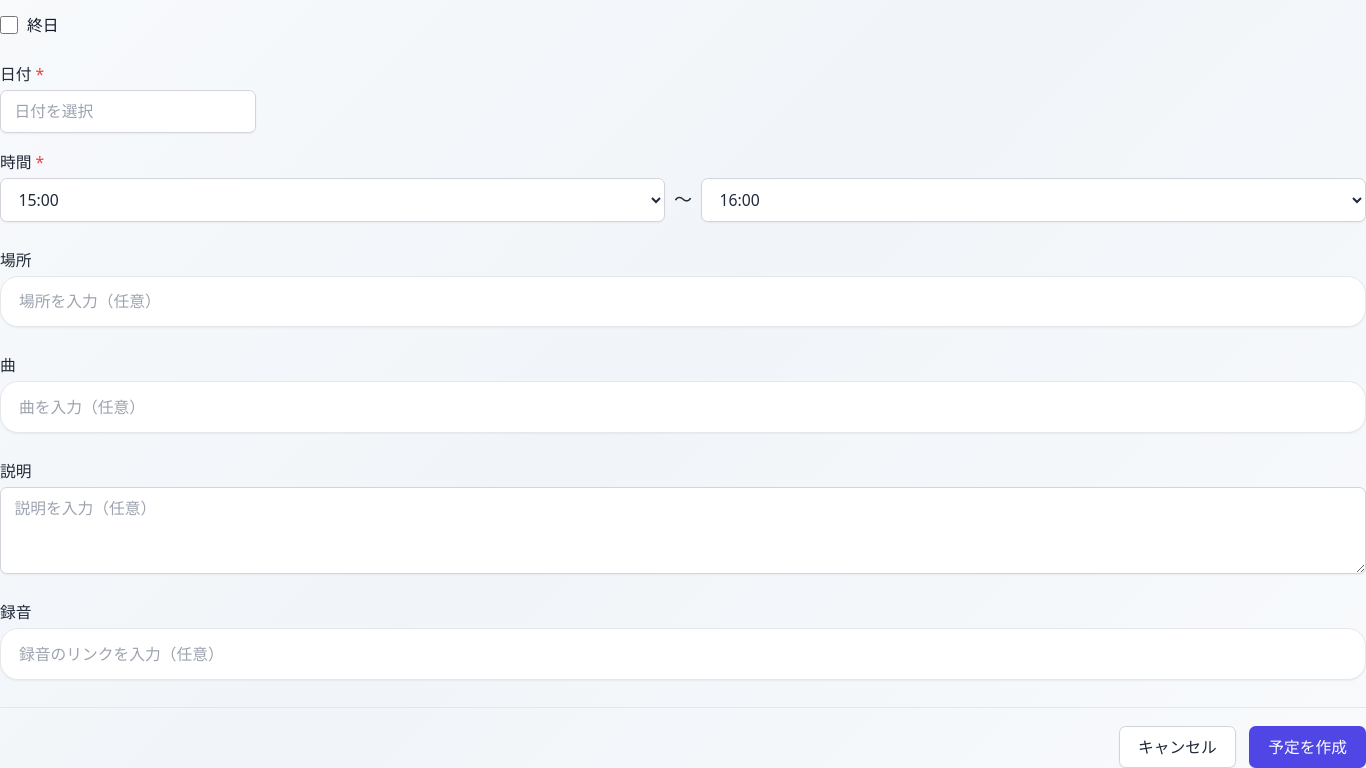
ScheduleForm › validation › should show error when summary is empty on submit
(page scrolled)
Click the button "予定を作成": (1308, 747) left=1249, top=726, right=1365, bottom=767
(page scrolled)
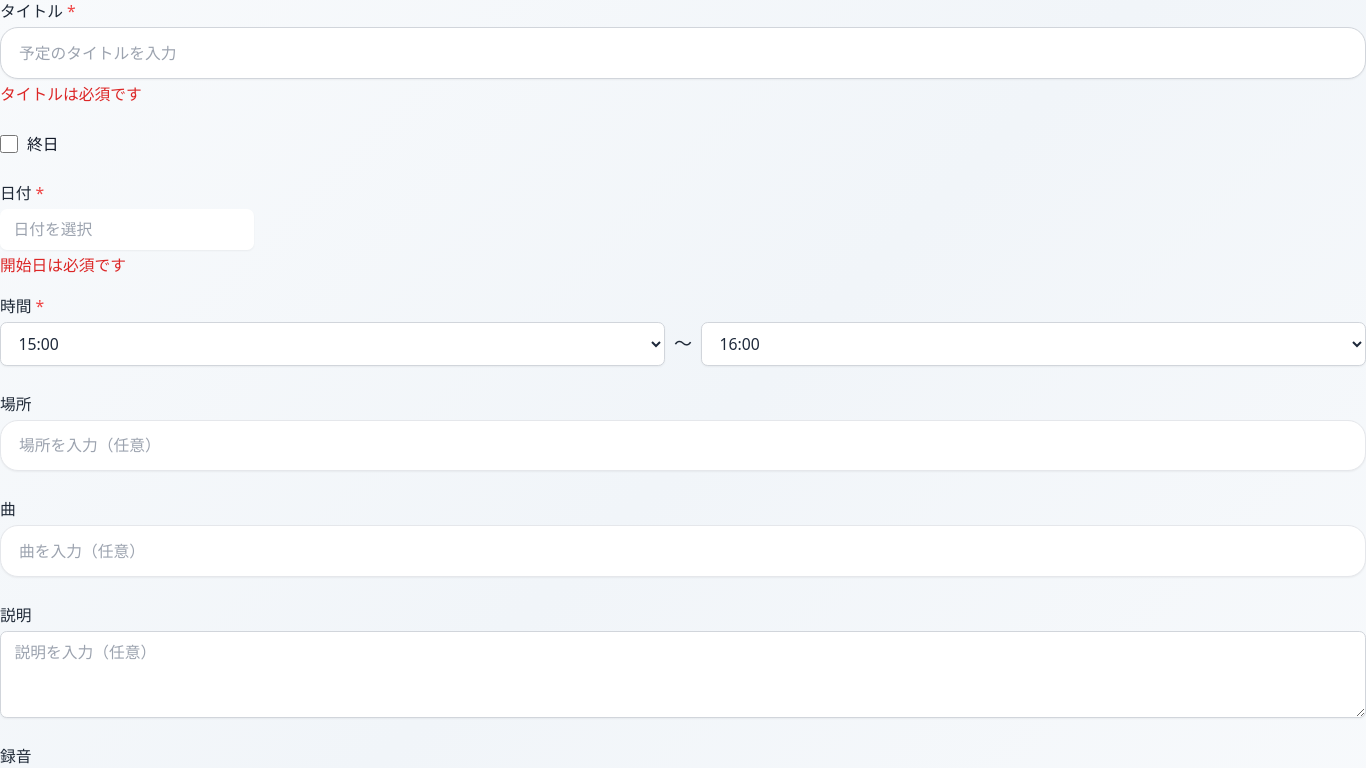
Expected: the text "タイトルは必須です" is shown, left=0, top=83, right=142, bottom=105
